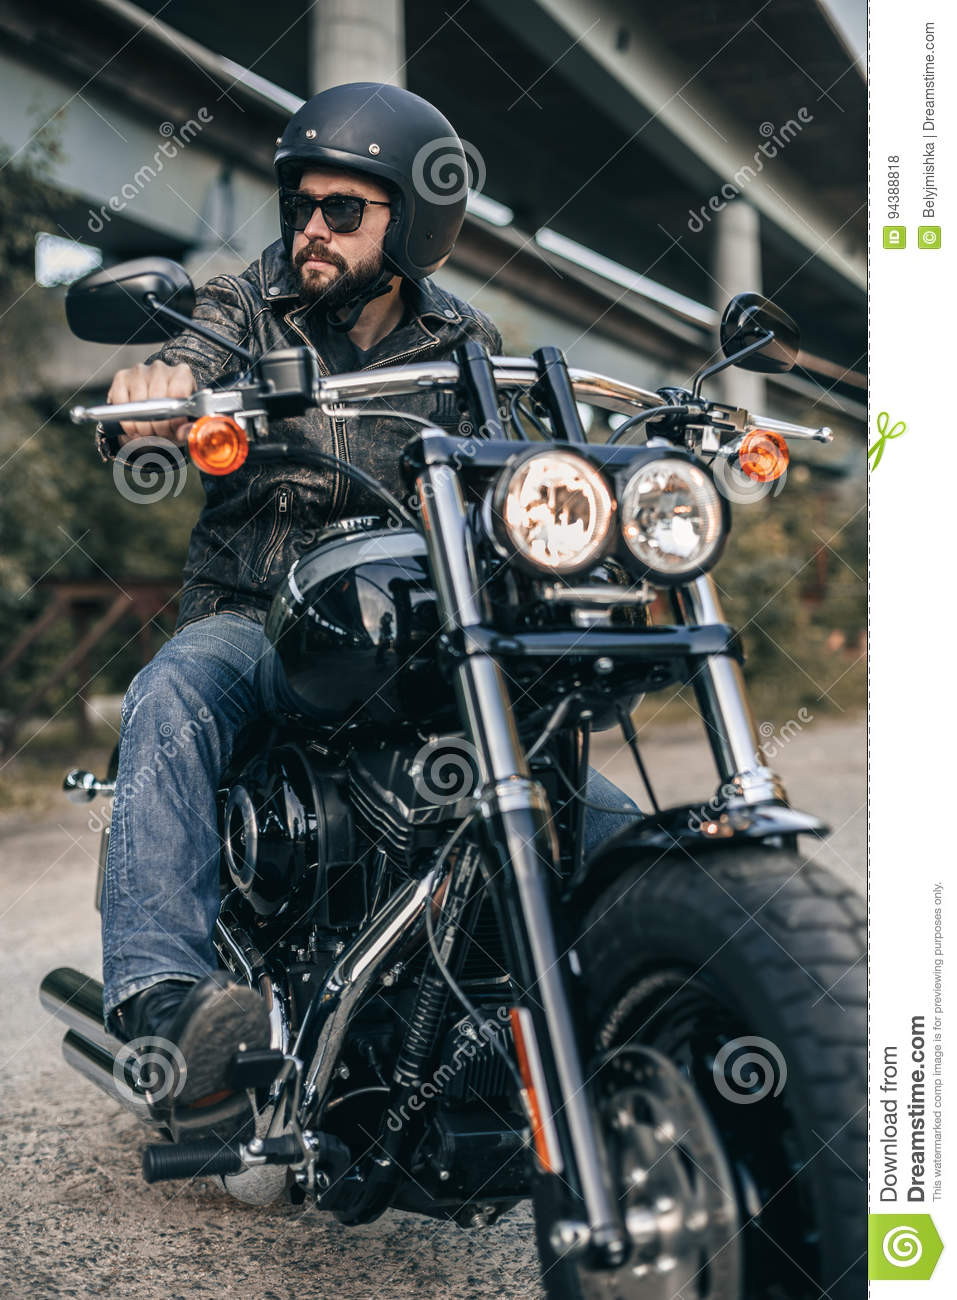helmet: (274, 89, 468, 283)
